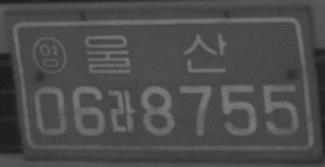0: (32, 85, 68, 137)
5: (219, 83, 258, 137), (261, 83, 299, 137)
6: (71, 84, 106, 136)
7: (179, 84, 212, 137)
8: (139, 85, 176, 136)
라: (107, 87, 135, 134)
영: (32, 35, 67, 75)
울산_D: (84, 32, 227, 75)
